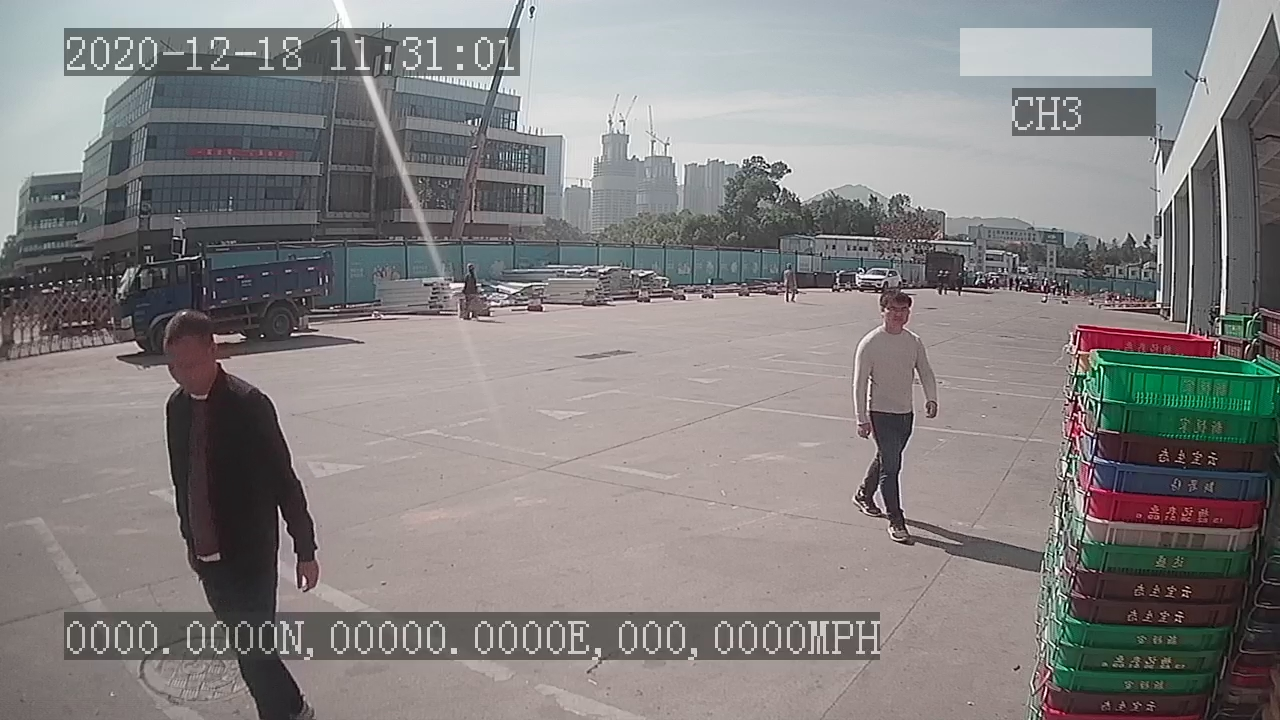person: (848, 285, 942, 545)
